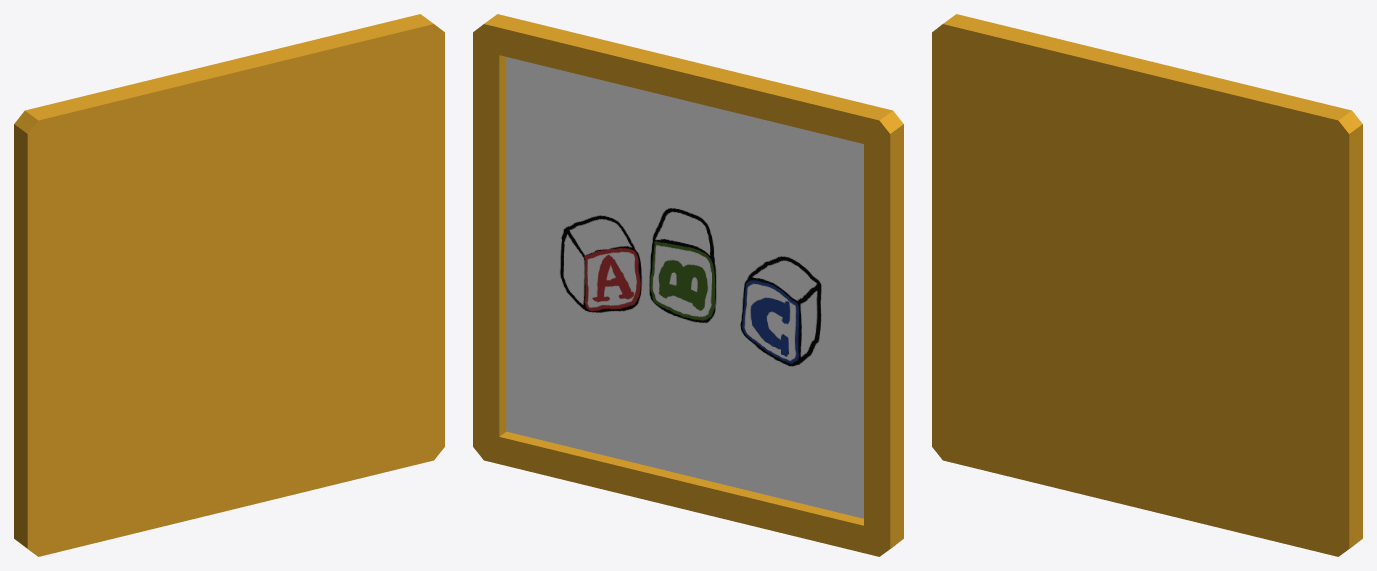
File: portrait.fbx
3 renders of one model, left to right at view 1: azimuth 30°, elevation 25°; view 2: azimuth 150°, elevation 25°; view 3: azimuth 330°, elevation 25°, orthographic.
Visible parts, largest first — view 1: MainFrame; view 2: Painting_inner, MainFrame; view 3: MainFrame.
Boxes of the visible parts, <box> form: MainFrame: <box>14,14,444,556</box>; Painting_inner: <box>506,57,863,518</box>; MainFrame: <box>473,14,903,556</box>; MainFrame: <box>932,14,1362,556</box>.
Bounding box in the file's own units: 189 × 189 × 10.7.
Materials: 2 (1 with a texture image).
